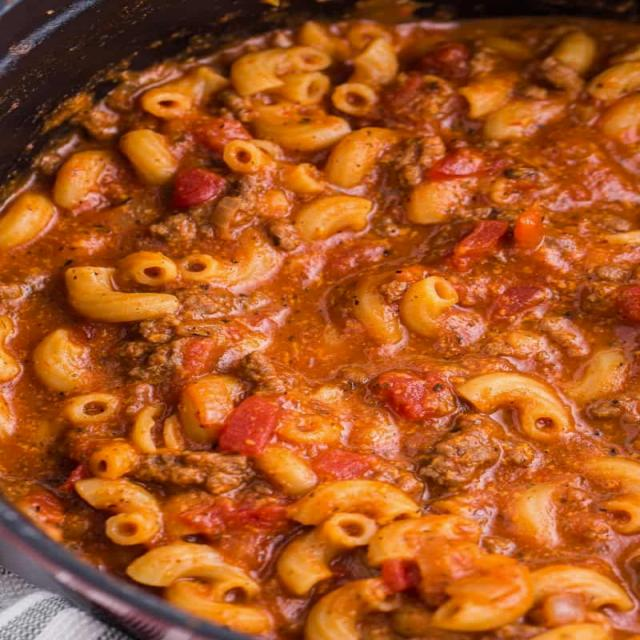pasta: (29, 46, 551, 624)
